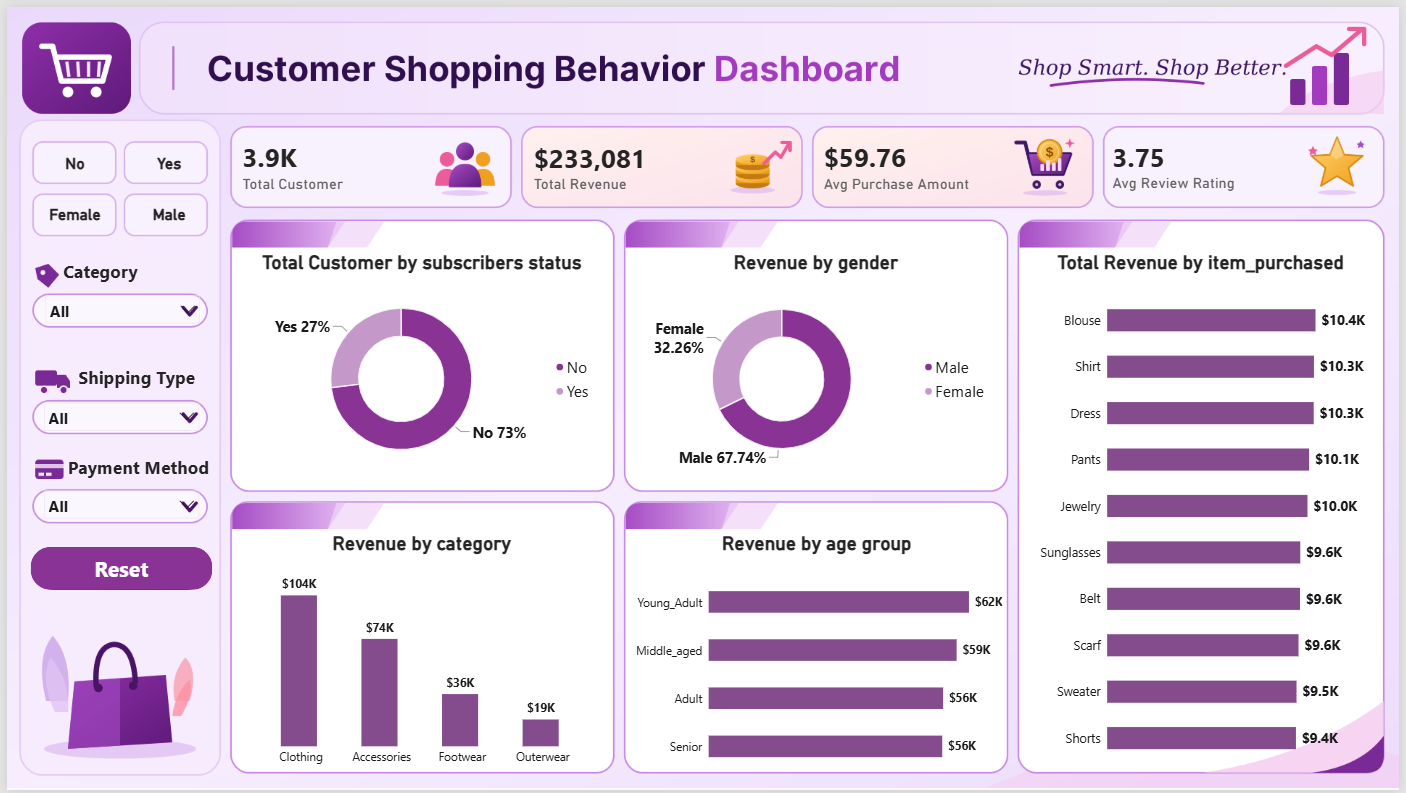

Layout of this report page (visuals, bound fields, positions):
{"tool":"powerbi","page":{"name":"Customer_Behavior_Analysis_Dashboard","canvas":[1920,1080],"ordinal":0},"visuals":[{"type":"cardVisual","fields":{"Data":["public customer.Total Customer"]},"box":[318.4,169.3,368.1,99.4],"z":0},{"type":"cardVisual","fields":{"Data":["public customer.Total Revenue"]},"box":[721.3,168.9,370.5,100],"z":1},{"type":"cardVisual","fields":{"Data":["public customer.Avg Purchase Amount"]},"box":[1120.9,173,366.3,93.9],"z":2},{"type":"cardVisual","fields":{"Data":["public customer.Avg Review Rating"]},"box":[1518.4,169.3,371.8,97.5],"z":3},{"type":"donutChart","title":"Total Customer by subscribers status","fields":{"Category":["public customer.subscription_status"],"Y":["public customer.Total Customer"]},"box":[318,322,510,336],"z":4},{"type":"donutChart","title":"Revenue by gender","fields":{"Category":["public customer.gender"],"Y":["public customer.Total Revenue"]},"box":[858,322,514,336],"z":5},{"type":"barChart","title":"Revenue by age group","fields":{"Category":["public customer.age_group"],"Y":["public customer.Total Revenue"]},"box":[844,710,544,370],"z":6},{"type":"clusteredColumnChart","title":"Revenue by category","fields":{"Category":["public customer.category"],"Y":["public customer.Total Revenue"]},"box":[318,710,510,356],"z":7},{"type":"clusteredBarChart","fields":{"Category":["public customer.item_purchased"],"Y":["public customer.Total Revenue"]},"box":[1404,322,486,744],"z":8},{"type":"advancedSlicerVisual","fields":{"Values":["public customer.gender"]},"box":[33.1,266.9,252.1,40.5],"z":11},{"type":"slicer","fields":{"Values":["public customer.category"]},"box":[47.9,393.9,222.7,53.4],"z":12},{"type":"slicer","fields":{"Values":["public customer.shipping_type"]},"box":[47.1,540.7,223.3,50.6],"z":13},{"type":"slicer","fields":{"Values":["public customer.payment_method"]},"box":[47.1,662.8,223.3,47.1],"z":14},{"type":"textbox","box":[77.3,347.9,163.8,46],"z":15},{"type":"textbox","box":[73.6,495.1,209.8,46],"z":16},{"type":"textbox","box":[77.3,618.4,208,40.5],"z":17},{"type":"actionButton","box":[33.1,745.4,250.3,58.9],"z":18},{"type":"advancedSlicerVisual","fields":{"Values":["public customer.subscription_status"]},"box":[33.1,193.3,252.1,47.9],"z":19}]}

Visuals, with their boxes in screenshot pixels (x1, y1, x2, y2), scaled from the page's 1920x1080 canvas onto the 1406x793 screenshot:
cardVisual - public customer.Total Customer: <region>233, 124, 503, 197</region>
cardVisual - public customer.Total Revenue: <region>528, 124, 800, 197</region>
cardVisual - public customer.Avg Purchase Amount: <region>821, 127, 1089, 196</region>
cardVisual - public customer.Avg Review Rating: <region>1112, 124, 1384, 196</region>
"Total Customer by subscribers status" donutChart: <region>233, 236, 606, 483</region>
"Revenue by gender" donutChart: <region>628, 236, 1005, 483</region>
"Revenue by age group" barChart: <region>618, 521, 1016, 792</region>
"Revenue by category" clusteredColumnChart: <region>233, 521, 606, 783</region>
clusteredBarChart - public customer.item_purchased x public customer.Total Revenue: <region>1028, 236, 1384, 783</region>
advancedSlicerVisual - public customer.gender: <region>24, 196, 209, 226</region>
slicer - public customer.category: <region>35, 289, 198, 328</region>
slicer - public customer.shipping_type: <region>34, 397, 198, 434</region>
slicer - public customer.payment_method: <region>34, 487, 198, 521</region>
textbox: <region>57, 255, 177, 289</region>
textbox: <region>54, 364, 208, 397</region>
textbox: <region>57, 454, 209, 484</region>
actionButton: <region>24, 547, 208, 591</region>
advancedSlicerVisual - public customer.subscription_status: <region>24, 142, 209, 177</region>
